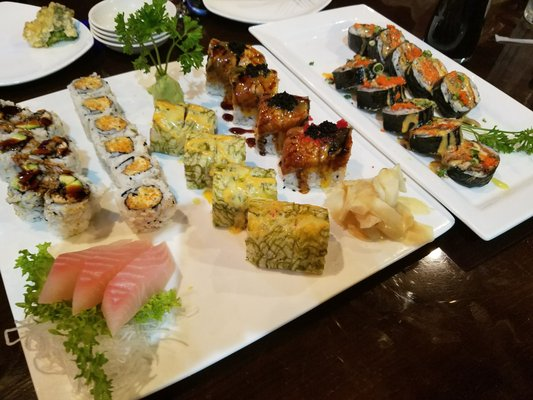curry: (1, 0, 529, 399)
pizza: (66, 239, 152, 316)
